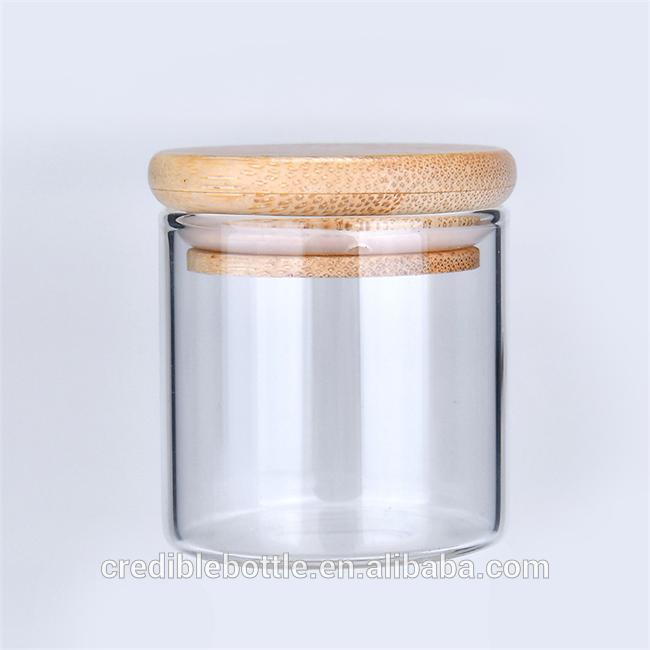Rec_Glass: (55, 111, 581, 589)
